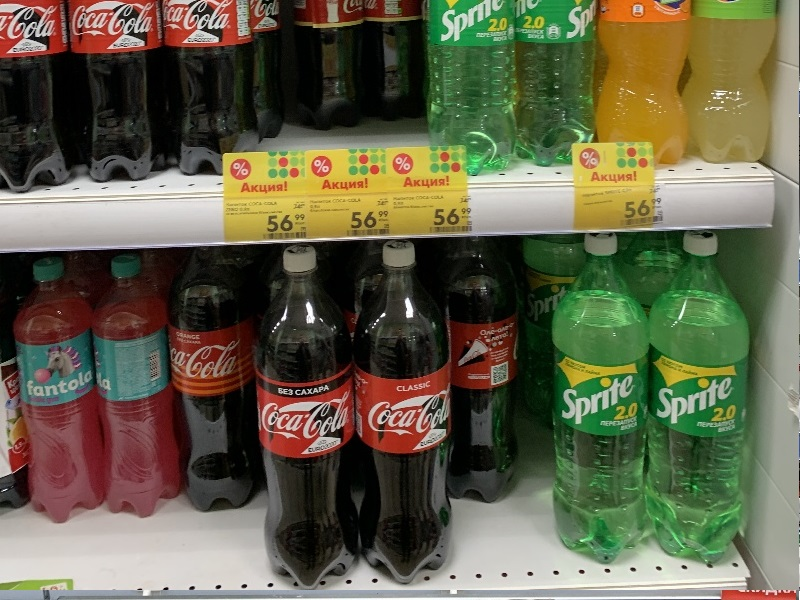lemonade: (636, 230, 773, 570), (540, 232, 660, 577), (255, 243, 368, 590), (355, 239, 466, 589), (159, 246, 269, 516), (90, 250, 192, 527), (15, 256, 115, 534)
